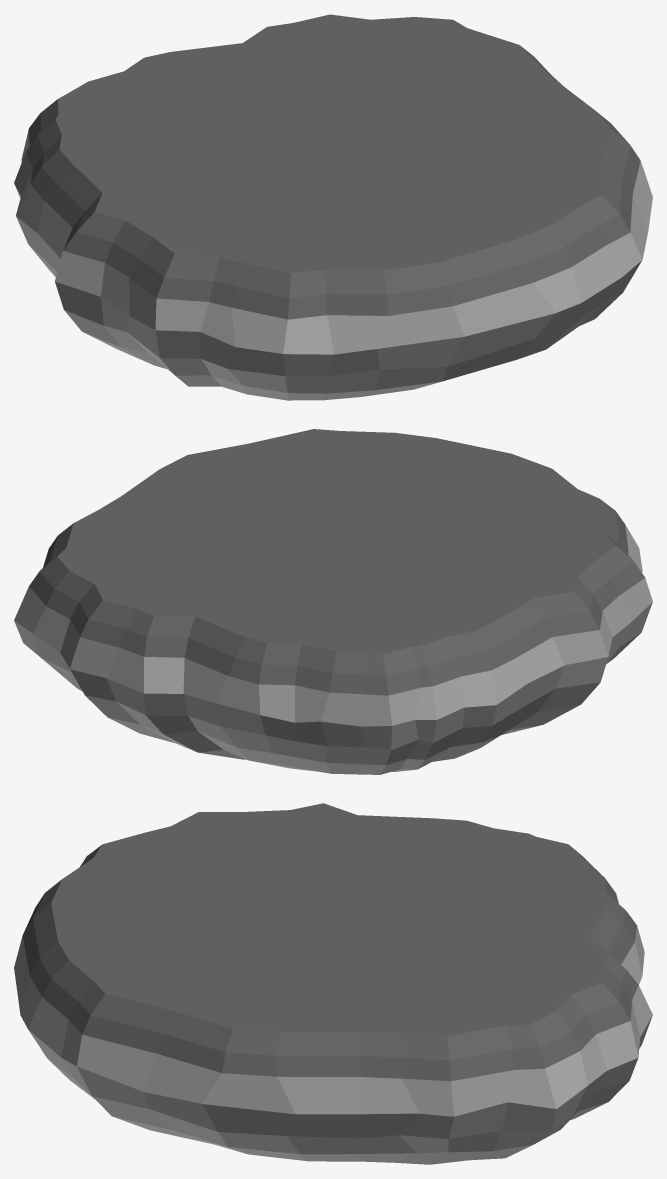
Rendered from land22.fbx.
The picture shows the model from 3 angles, top to bottom: view 1: azimuth 30°, elevation 25°; view 2: azimuth 150°, elevation 25°; view 3: azimuth 270°, elevation 25°; orthographic projection. The views are drawn at different scales.
Visible parts, largest first — view 1: Plane; view 2: Plane; view 3: Plane.
Boxes of the visible parts, x1,y1,x2,y2 form: Plane: (14, 14, 652, 400); Plane: (14, 429, 652, 774); Plane: (14, 803, 652, 1164).
Bounding box in the file's own units: 632 × 197 × 636.
Materials: 1 (1 with a texture image).
